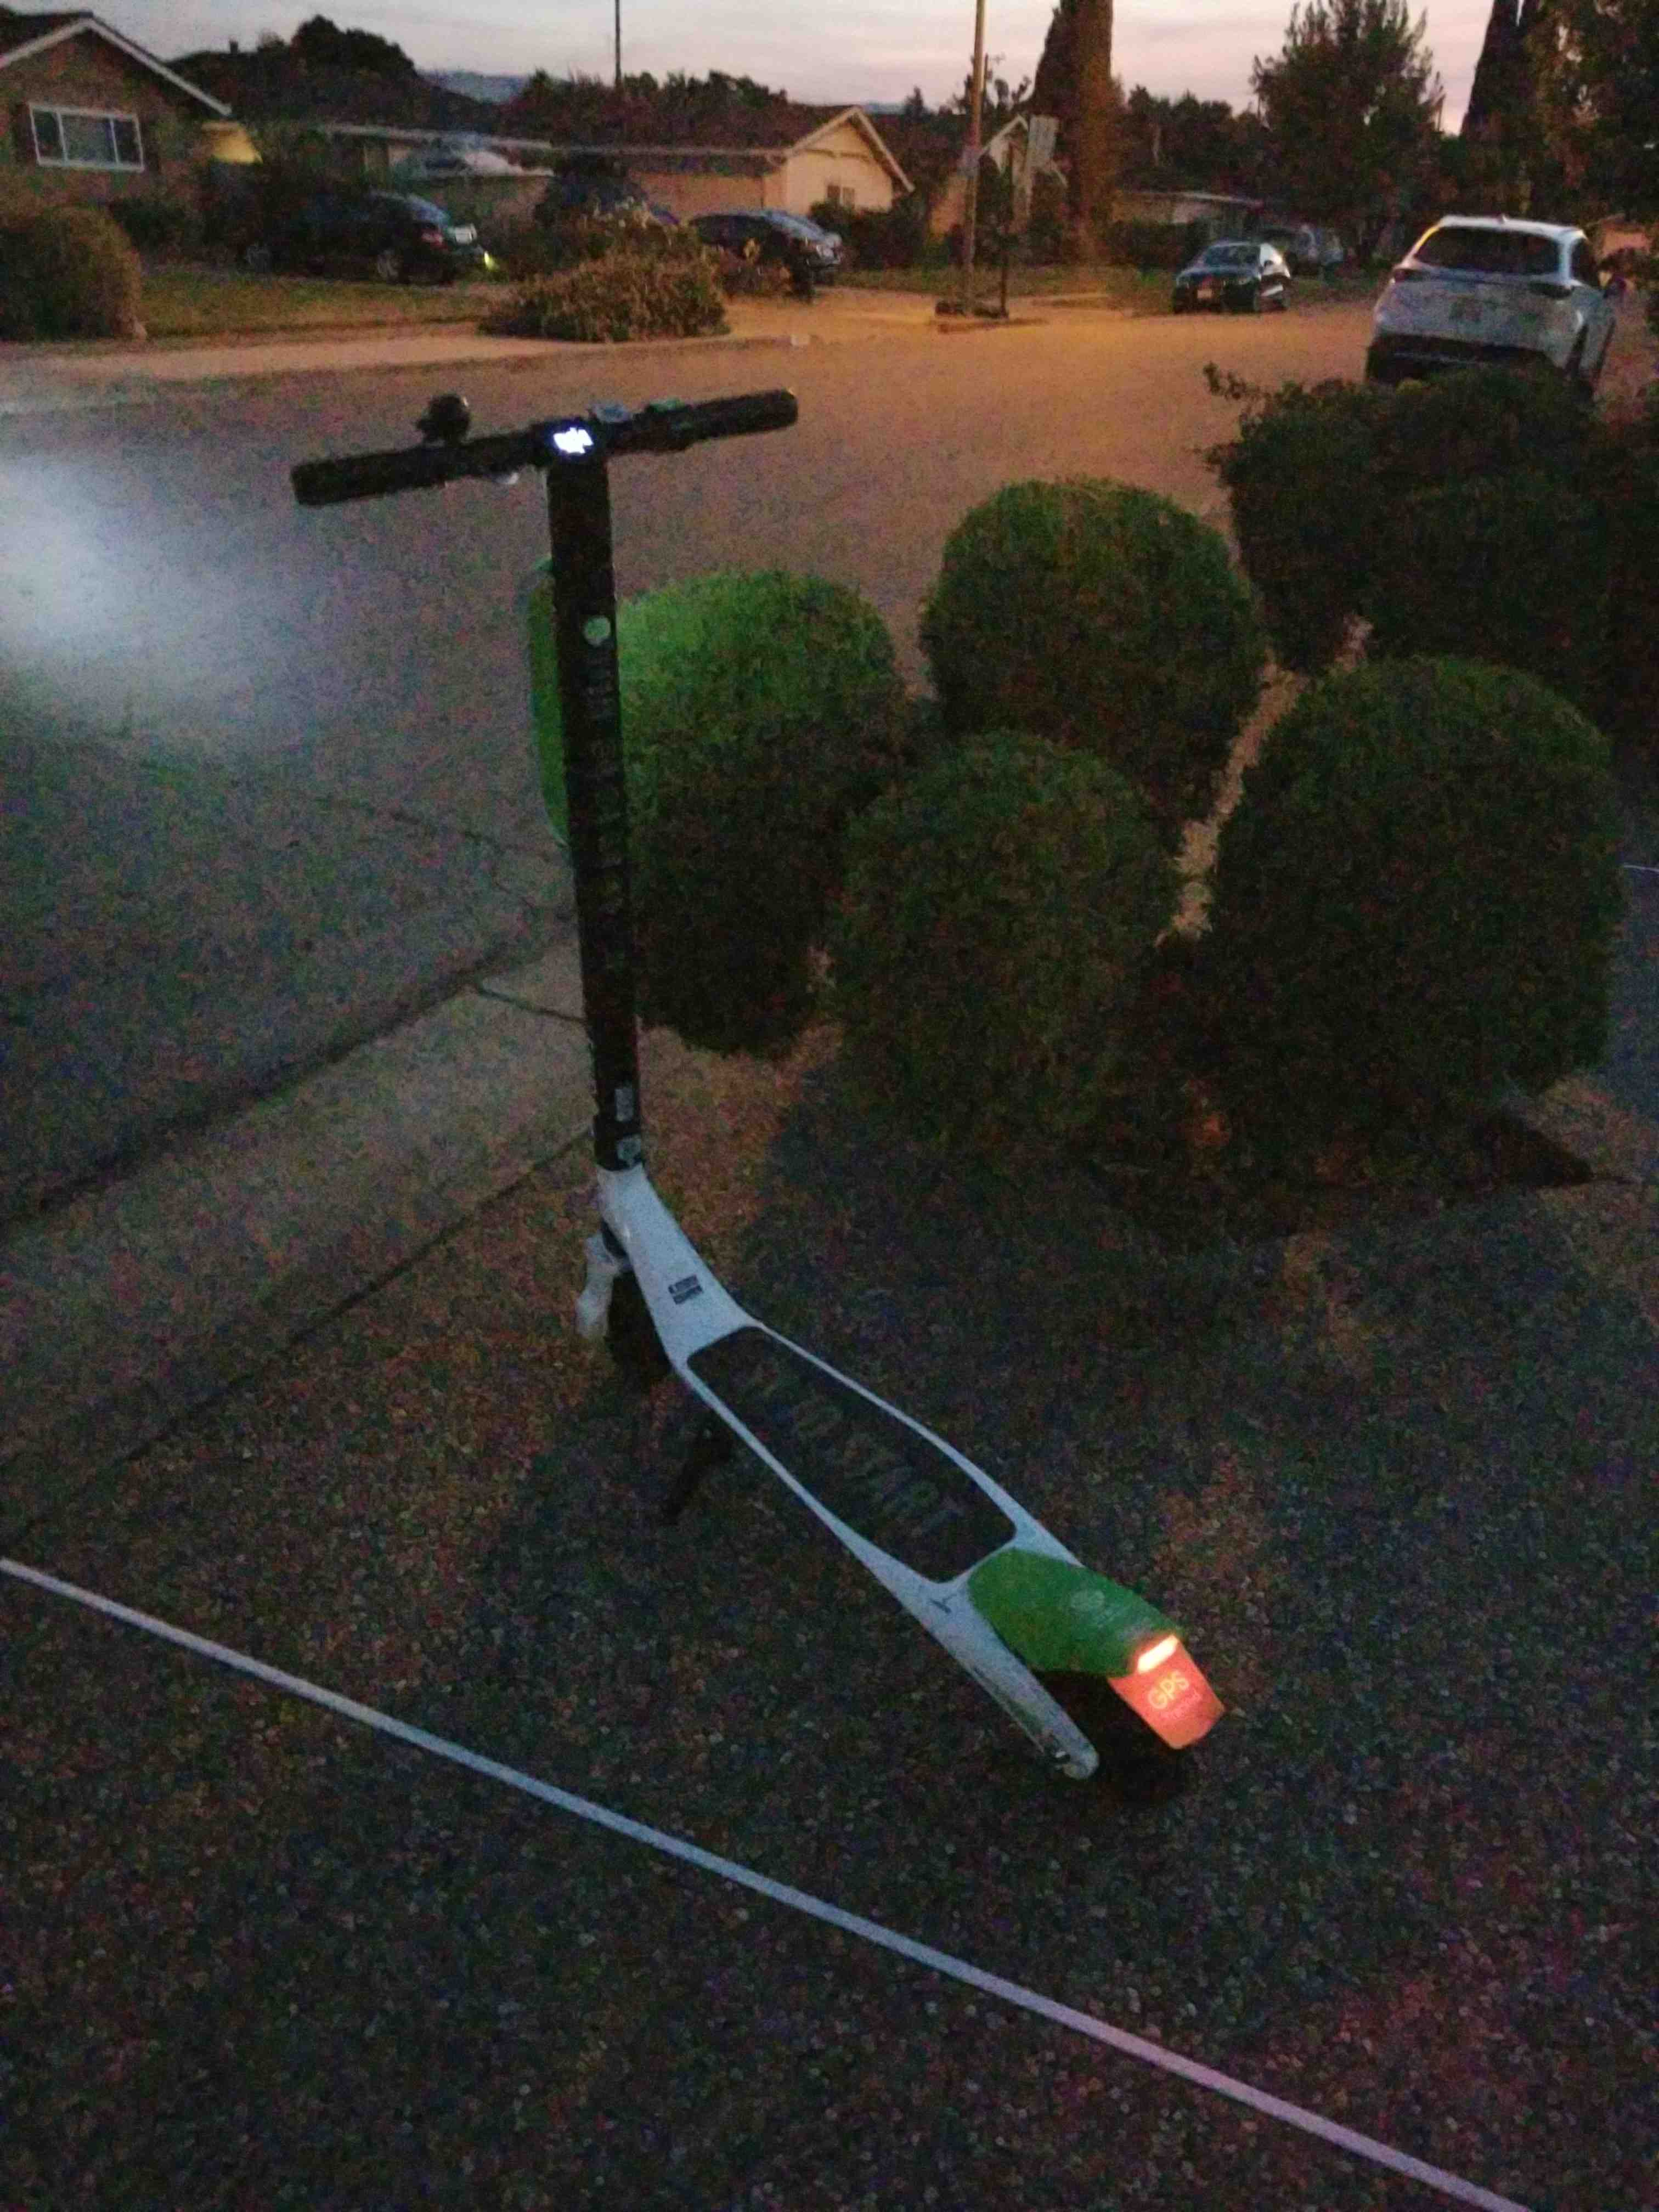scooter: (249, 392, 1246, 1780)
